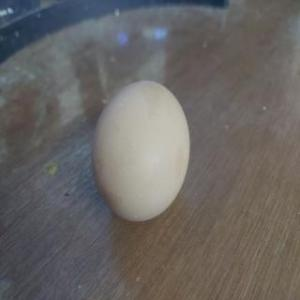egg: (89, 77, 191, 222)
